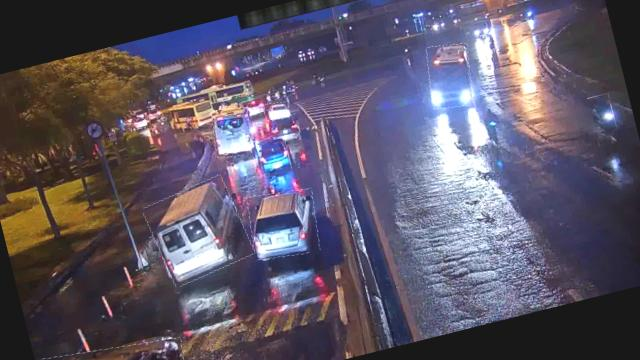Bike: (588, 93, 620, 146)
Bus: (142, 175, 255, 288), (421, 38, 478, 112), (207, 103, 256, 160)
Car: (242, 184, 324, 264), (36, 328, 194, 360), (260, 136, 292, 176), (268, 114, 301, 144), (262, 99, 290, 122), (240, 96, 264, 118)
